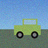vehicle: (14, 19, 40, 38)
